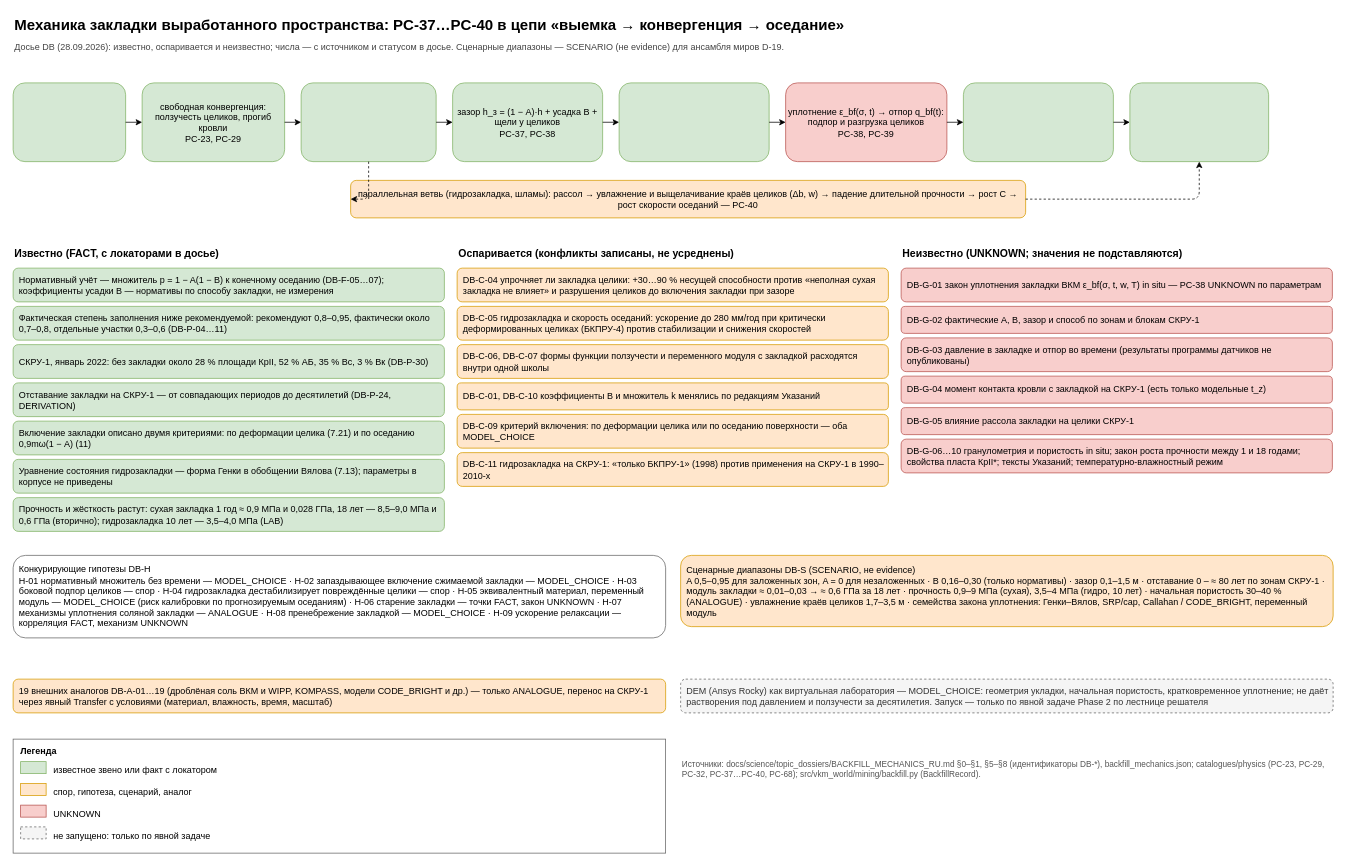
Image size: 1346x866. Some labels were removed from this diagram. Here are the shapes that lost their labels. From the top down, the centre of each, then its label:
At [69,122]: "выемка камеры (t0)".
At [368,122]: "закладка через t_з = t_закл − t0 (отставание) PC-37".
At [693,122]: "конвергенция «выбирает» зазор; контакт кровля–закладка PC-39".
At [1038,122]: "эффективная жёсткость выработанного слоя (камеры + целики + закладка) PC-32".
At [1199,122]: "оседание η(t): скорость, конечная величина η_k·p, стадии PC-68".
